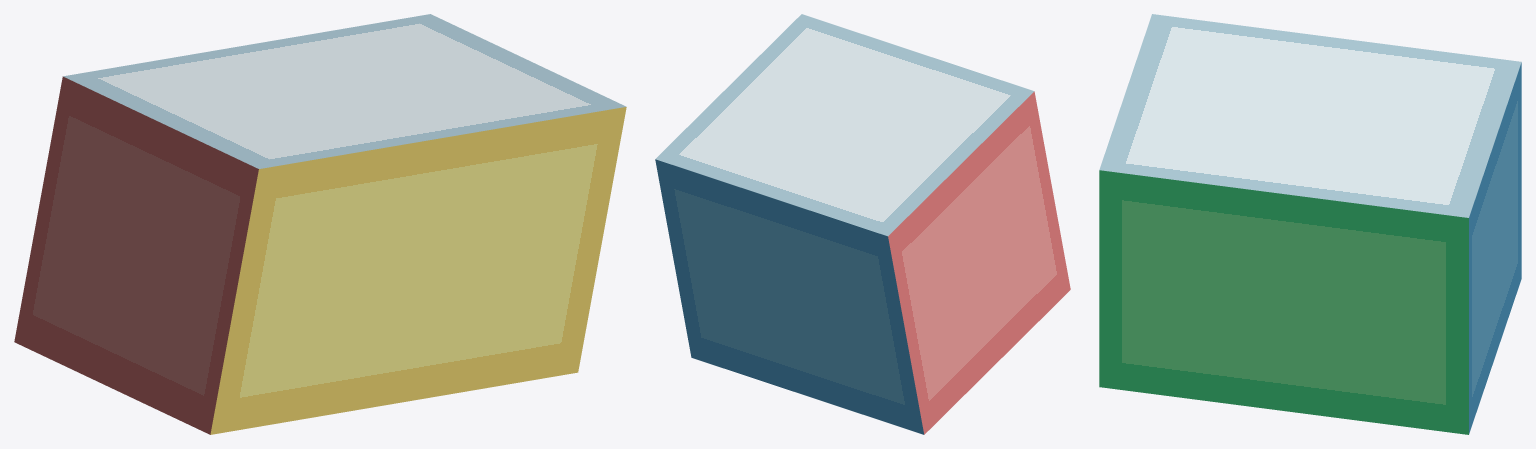
Rendered from Test_Custom_Brick.gltf.
3 renders of one model, left to right at view 1: azimuth 30°, elevation 25°; view 2: azimuth 150°, elevation 25°; view 3: azimuth 270°, elevation 25°, orthographic. The views are drawn at different scales.
Visible parts, largest first — view 1: cuboid; view 2: cuboid; view 3: cuboid.
Boxes of the visible parts, x1,y1,x2,y2 form: cuboid: (14,14,626,434); cuboid: (655,14,1070,434); cuboid: (1099,14,1521,434).
Bounding box in the file's own units: 1 × 0.75 × 1.
Materials: 1 (1 with a texture image).
